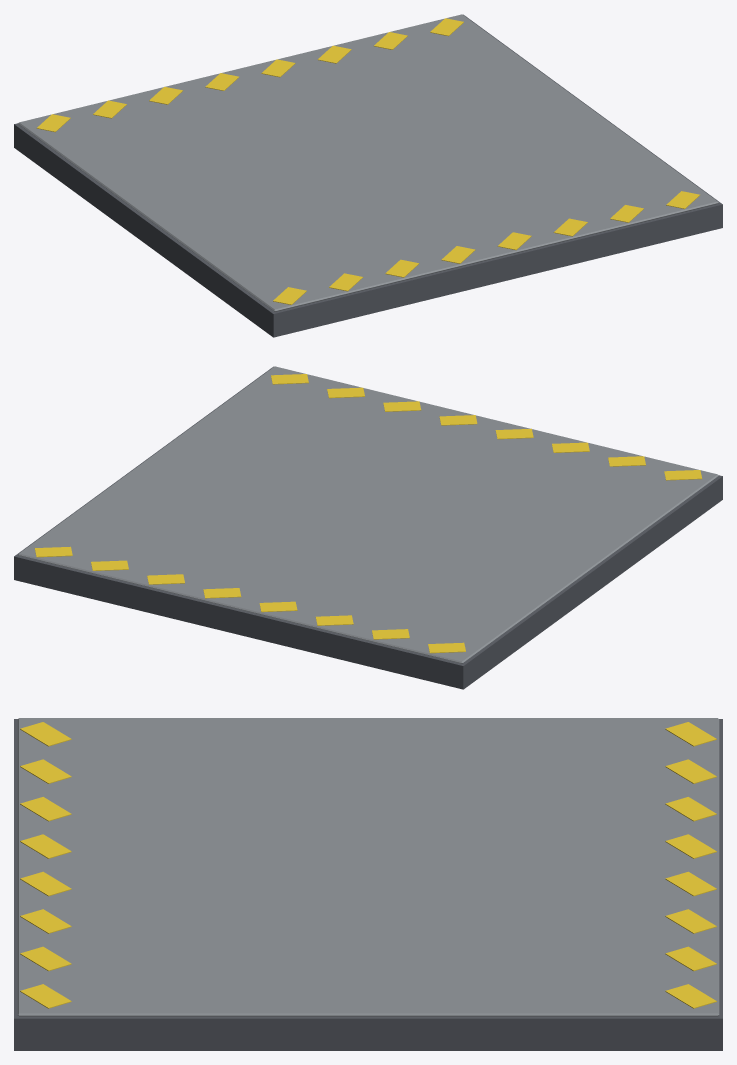
File: floor_hazard.glb
3 views of the same model, one above another, from view 1: azimuth 30°, elevation 25°; view 2: azimuth 150°, elevation 25°; view 3: azimuth 270°, elevation 25° (orthographic). The views are drawn at different scales.
Visible parts, largest first — view 1: floor_hazard; view 2: floor_hazard; view 3: floor_hazard.
Boxes of the visible parts, x1,y1,x2,y2 form: floor_hazard: (14, 14, 722, 337); floor_hazard: (14, 366, 722, 689); floor_hazard: (14, 718, 722, 1050).
Bounding box in the file's own units: 4 × 0.225 × 4.
